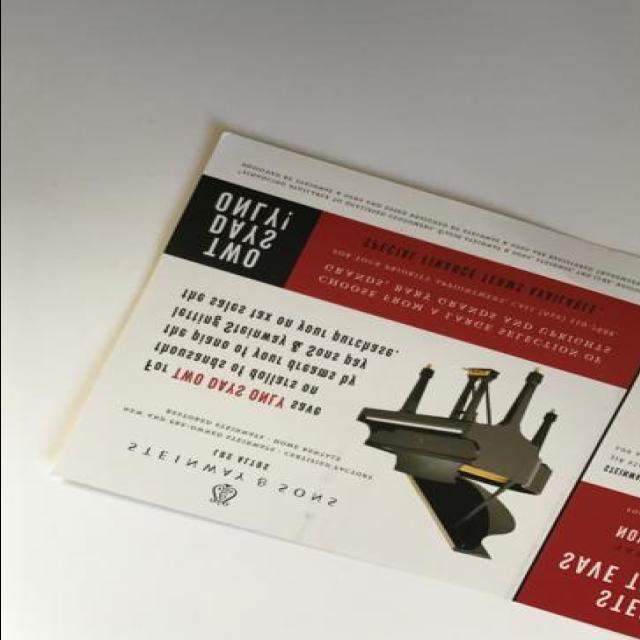kertas: (43, 128, 640, 640)
